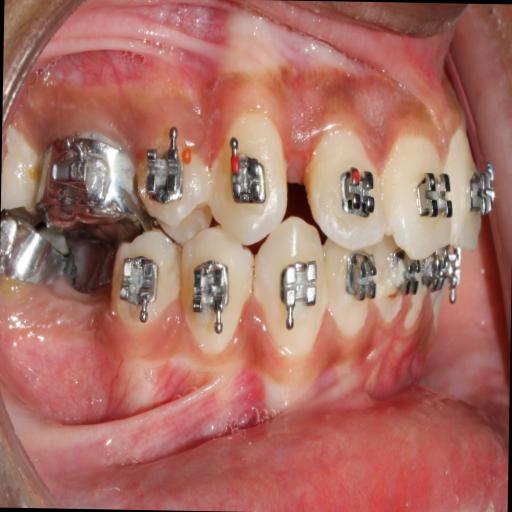correct_brace: (178, 226, 252, 360), (137, 150, 209, 242), (188, 252, 235, 318), (276, 250, 322, 312), (228, 149, 270, 210), (412, 166, 452, 224), (338, 164, 376, 222)
incorrect_brace: (304, 134, 382, 250), (144, 144, 184, 204)
